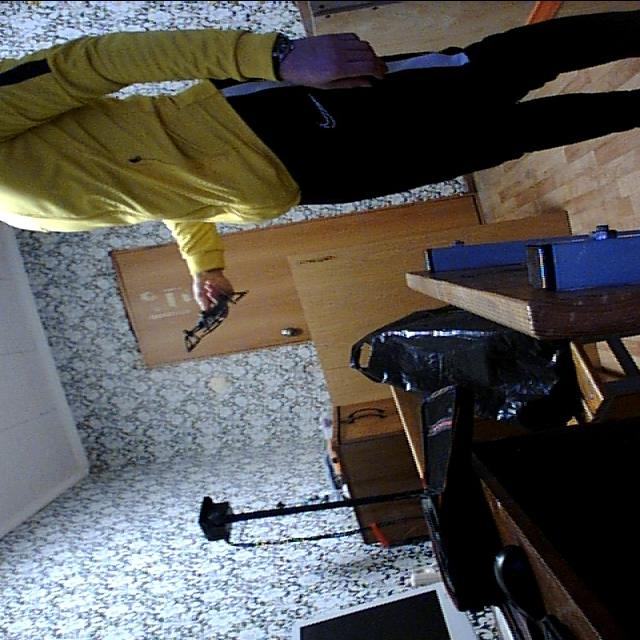drone: (164, 283, 264, 363)
